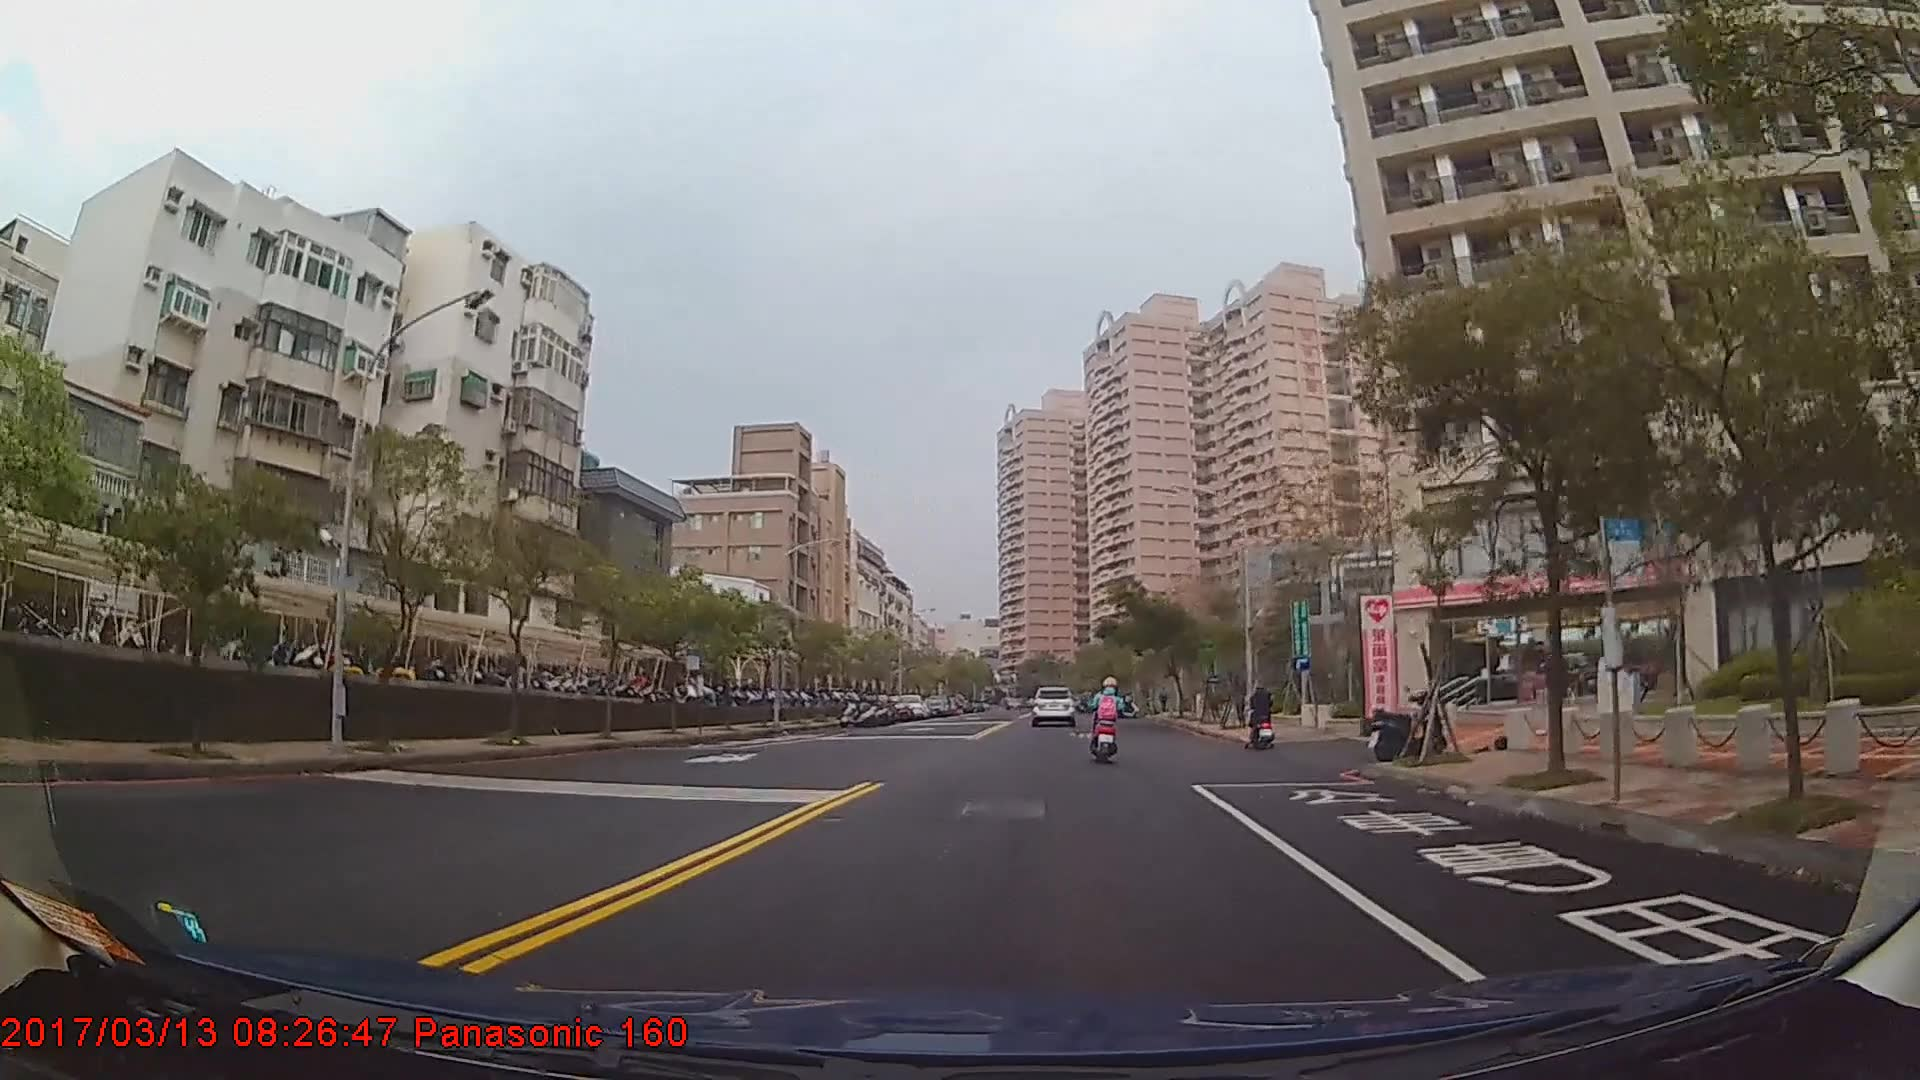rider: (1087, 676, 1127, 762), (1244, 680, 1276, 750)
vehicle: (1027, 685, 1078, 726), (891, 695, 926, 721)
